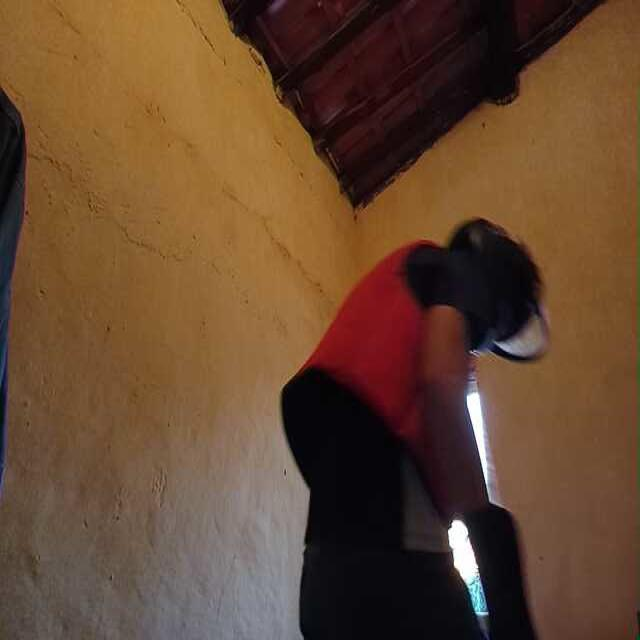capacete: (455, 218, 549, 361)
colete: (291, 241, 464, 498)
pessoa: (284, 253, 544, 640)
